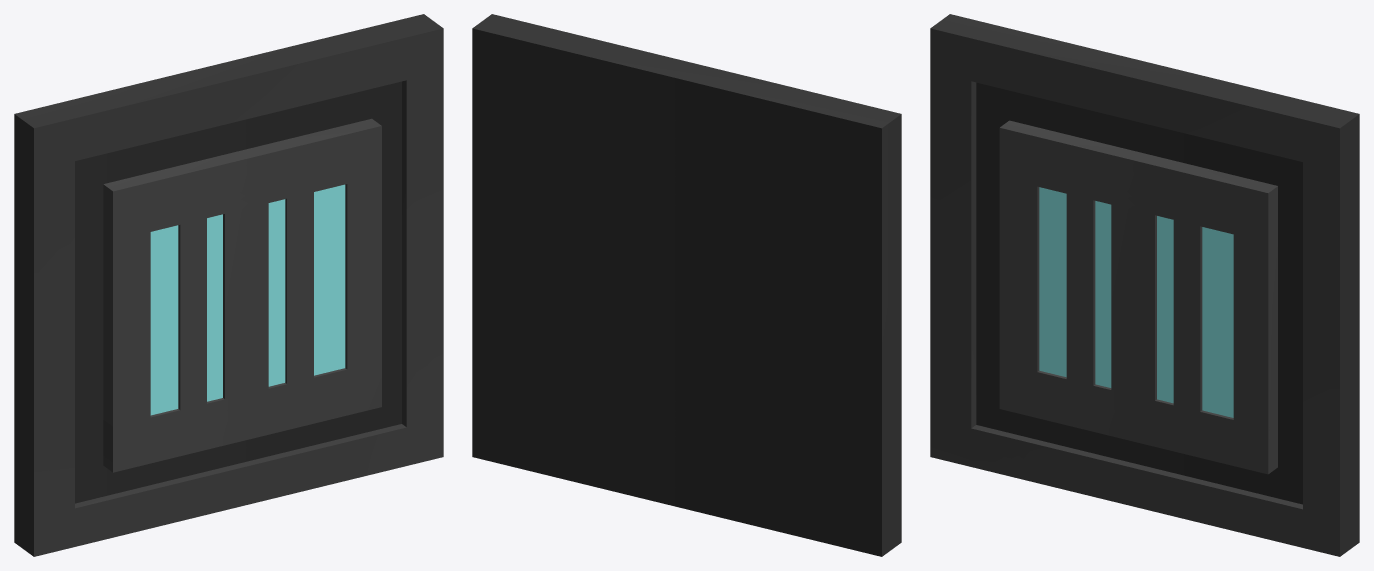
Rendered from StationWall.fbx.
3 renders of one model, left to right at view 1: azimuth 30°, elevation 25°; view 2: azimuth 150°, elevation 25°; view 3: azimuth 330°, elevation 25°, orthographic.
Parts seen in each view (by area): view 1: Cube; view 2: Cube; view 3: Cube.
Boxes of the visible parts, x1,y1,x2,y2 form: Cube: (14, 14, 443, 556); Cube: (472, 14, 901, 556); Cube: (930, 14, 1359, 556).
Bounding box in the file's own units: 240 × 240 × 25.
